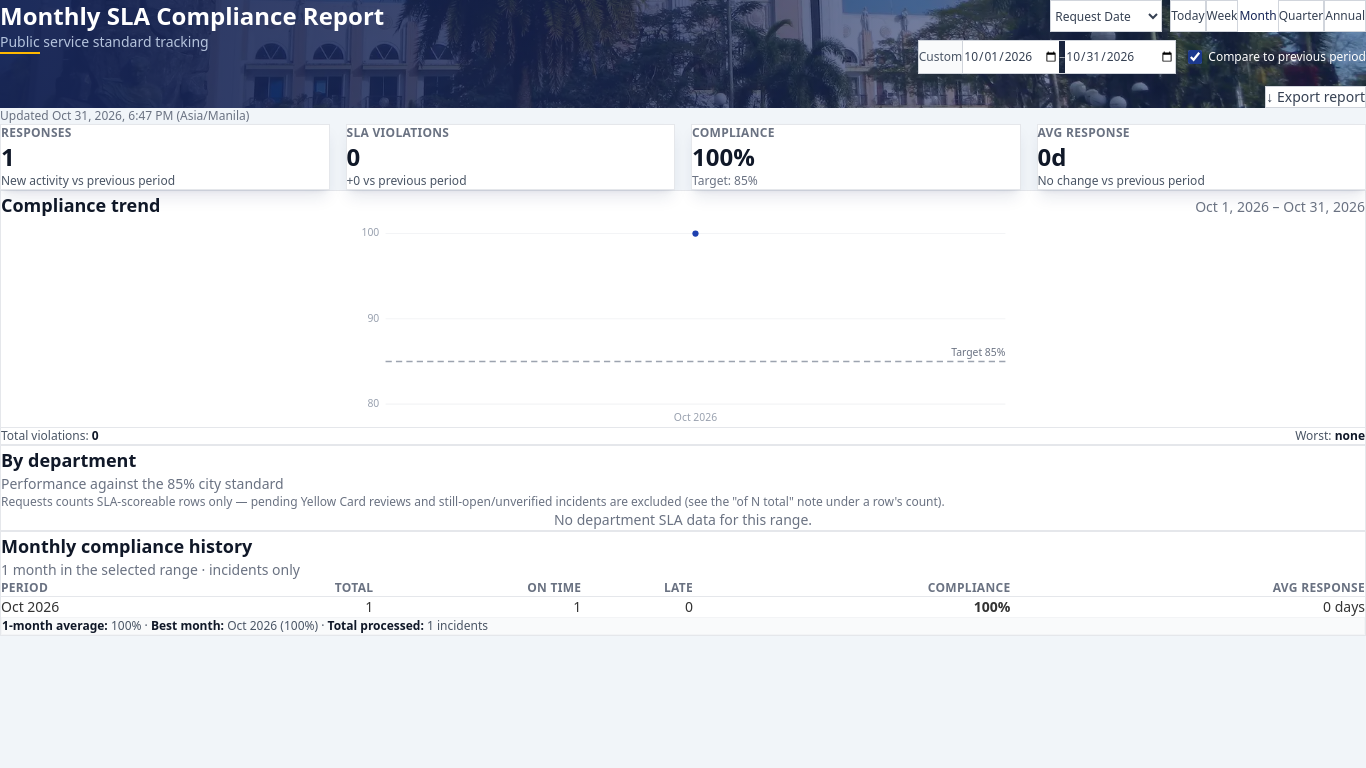
it: SLAReportsPage › renders "—" for a null-compliance month and excludes it from the summary footer's average/best
The width and height of the screenshot is (1366, 768).
Expected: the text "No department SLA data for this range." is shown, [554,510,812,529]
Click the button "Annual".
click(1345, 16)  # box [1324,0,1365,32]
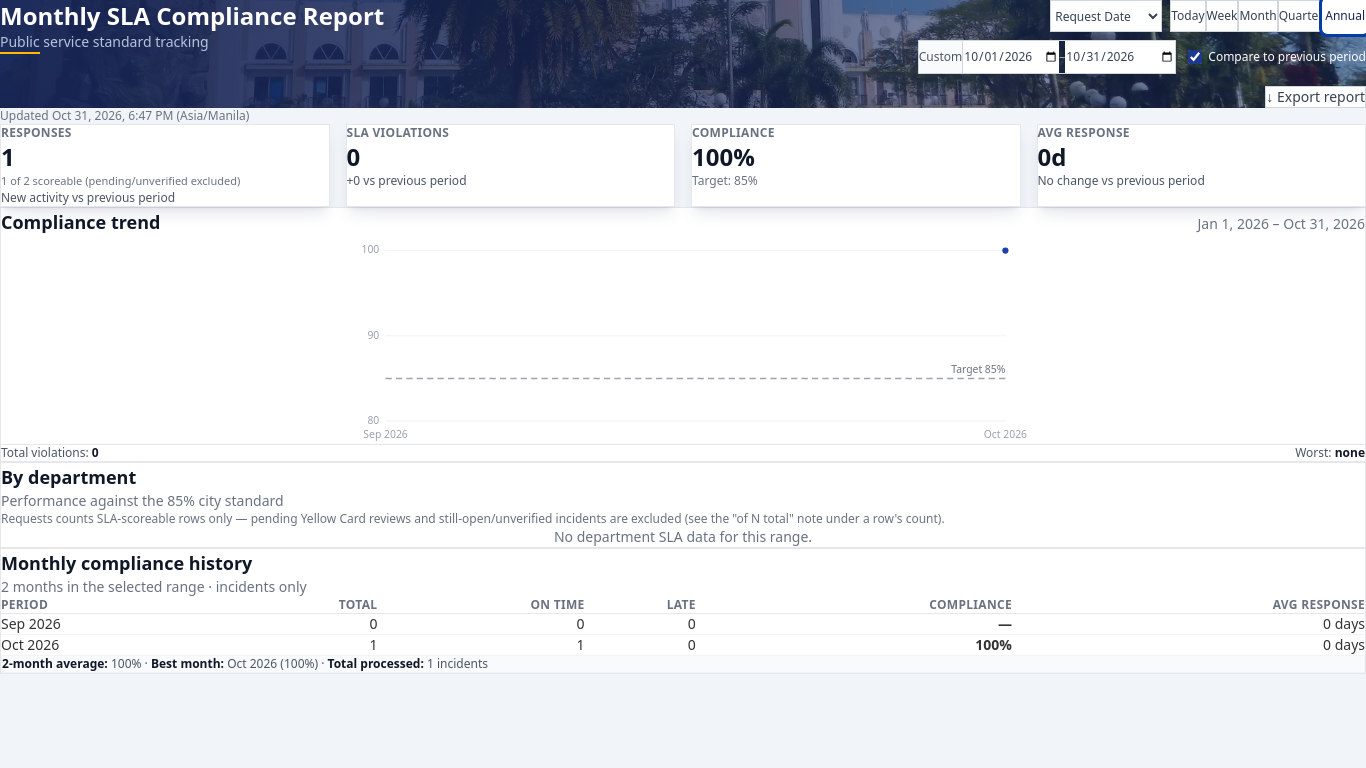
Expected: the heading "Monthly compliance history" is shown, [1,550,252,574]
Result: the text "—" is shown at [696,613,1012,634]
